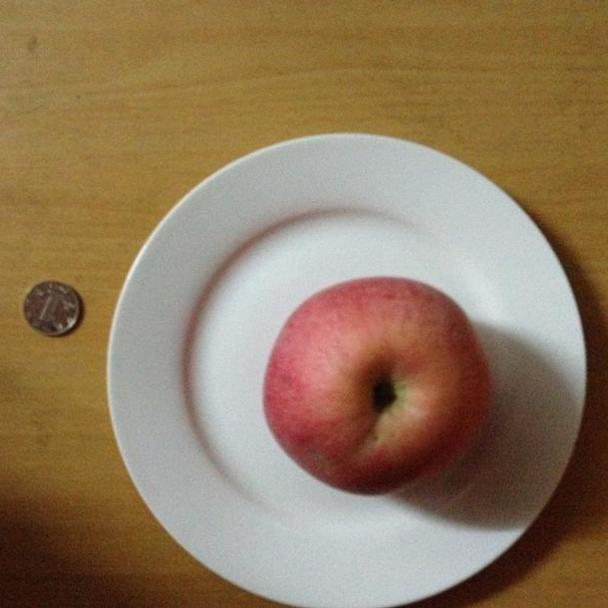apple: (261, 275, 493, 494)
